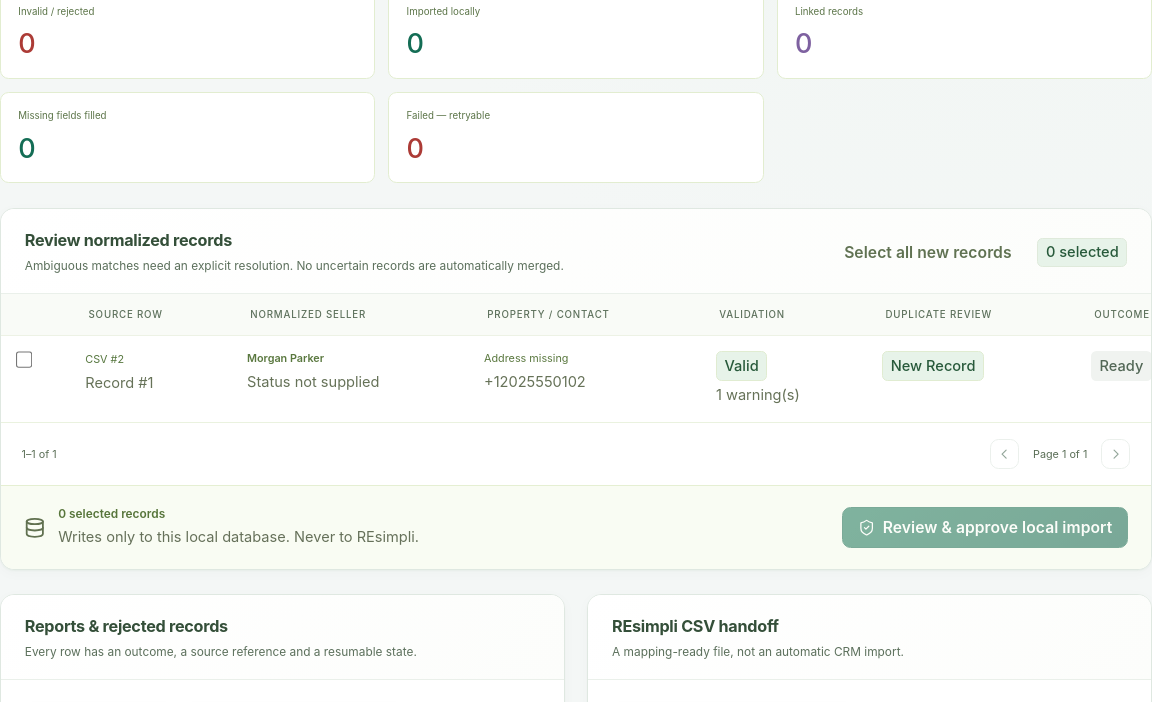
renders the normalized import preview and requires explicit approval
The width and height of the screenshot is (1152, 702).
(page scrolled)
expect the heading "Review normalized records" is shown: met, box [25, 230, 232, 250]
expect the text "+12025550102" is shown: met, box [484, 373, 586, 391]
Click the checkbox named "Select import row 2". click: (25, 360)
box: [16, 351, 33, 369]
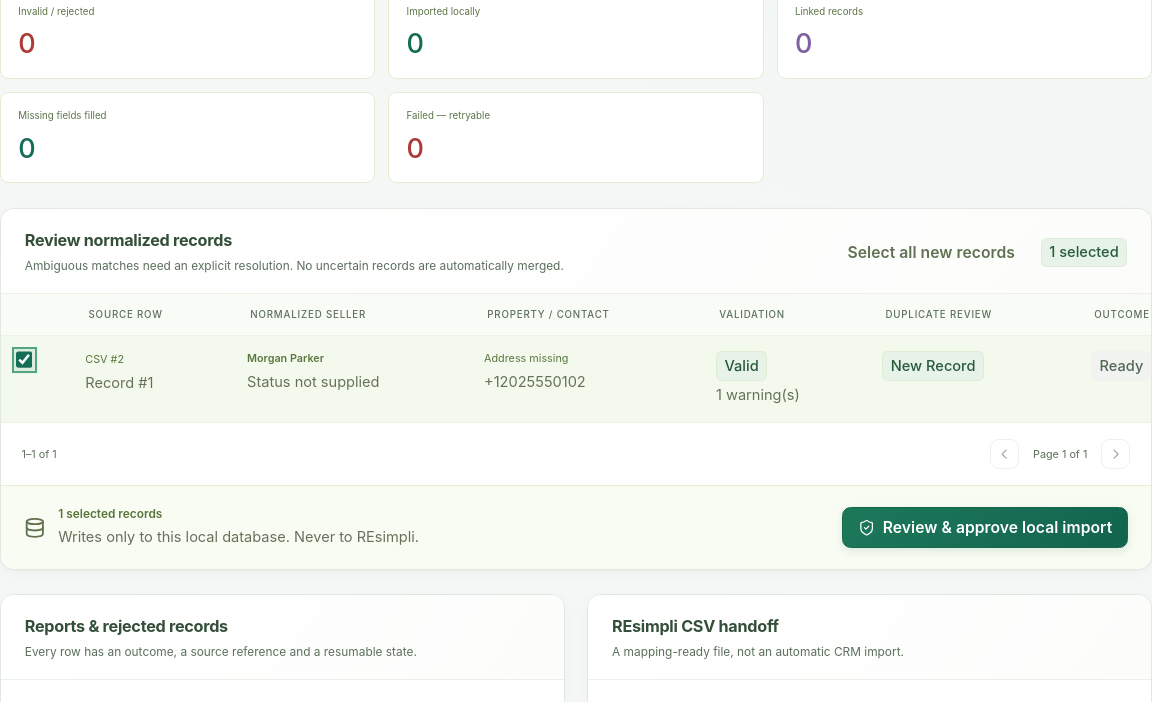
Click the button "Review & approve local import". click: (985, 527)
box: [842, 507, 1128, 548]
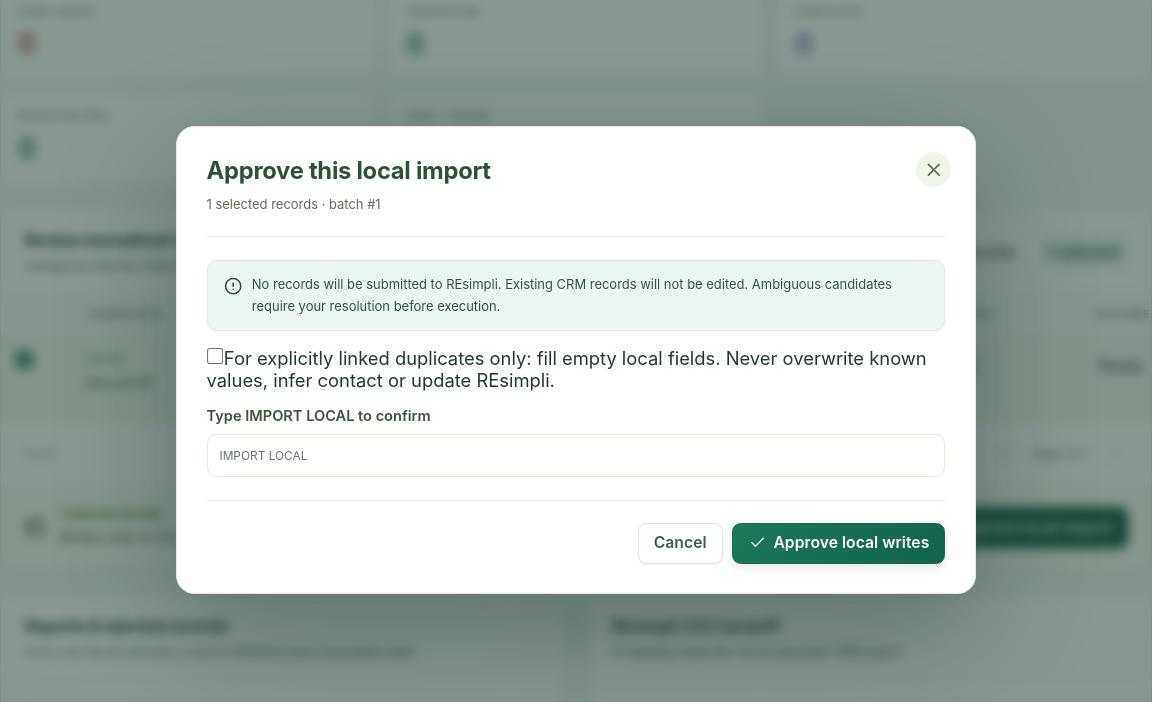
expect the field labelled "Type IMPORT LOCAL to confirm" is shown: met, box [207, 434, 946, 477]
